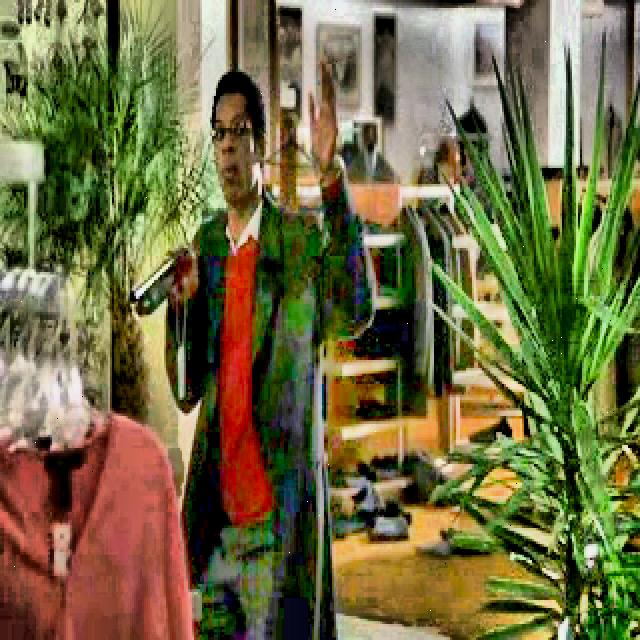L: (126, 53, 374, 634)
